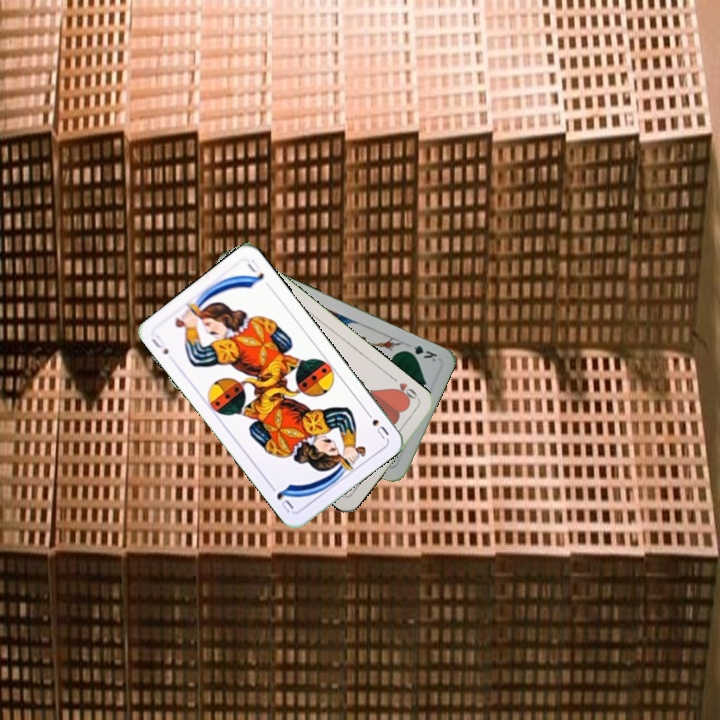GK: (400, 339, 440, 365)
HO: (388, 373, 422, 405)
SU: (361, 406, 392, 442), (147, 331, 171, 357)
